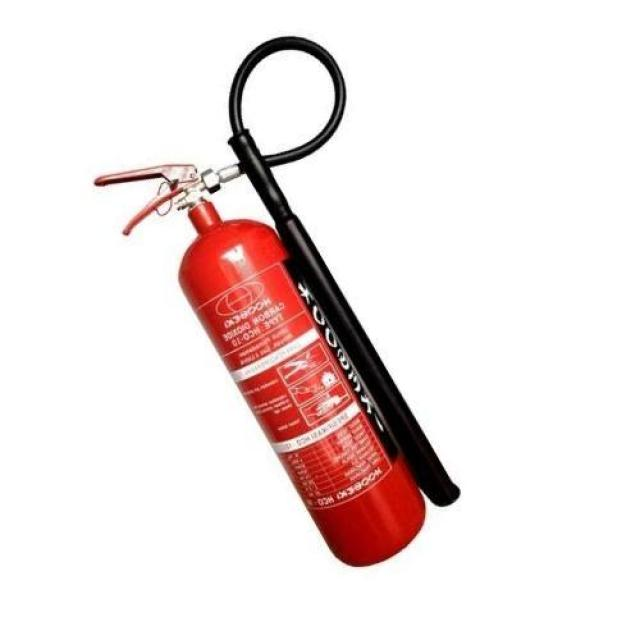fire_extinguisher: (89, 30, 468, 569)
